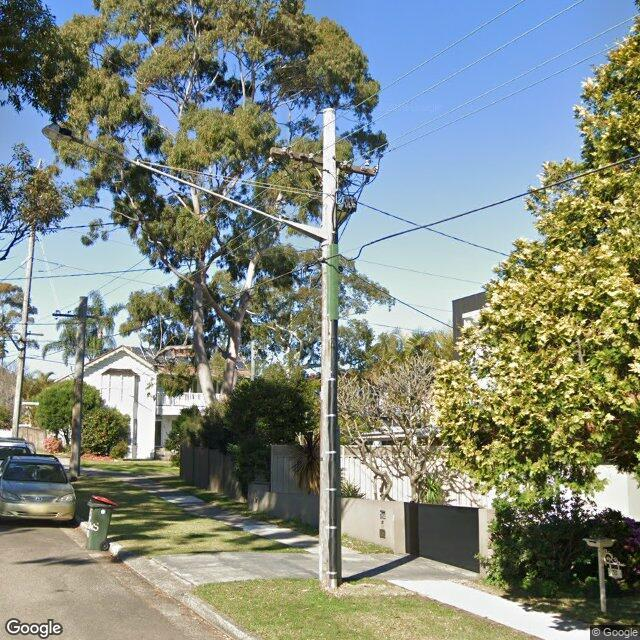crossarm: (268, 147, 379, 176), (51, 309, 99, 321)
streetlight: (41, 121, 329, 244)
timber-pole: (321, 106, 342, 588), (10, 217, 36, 438), (71, 295, 89, 479)
